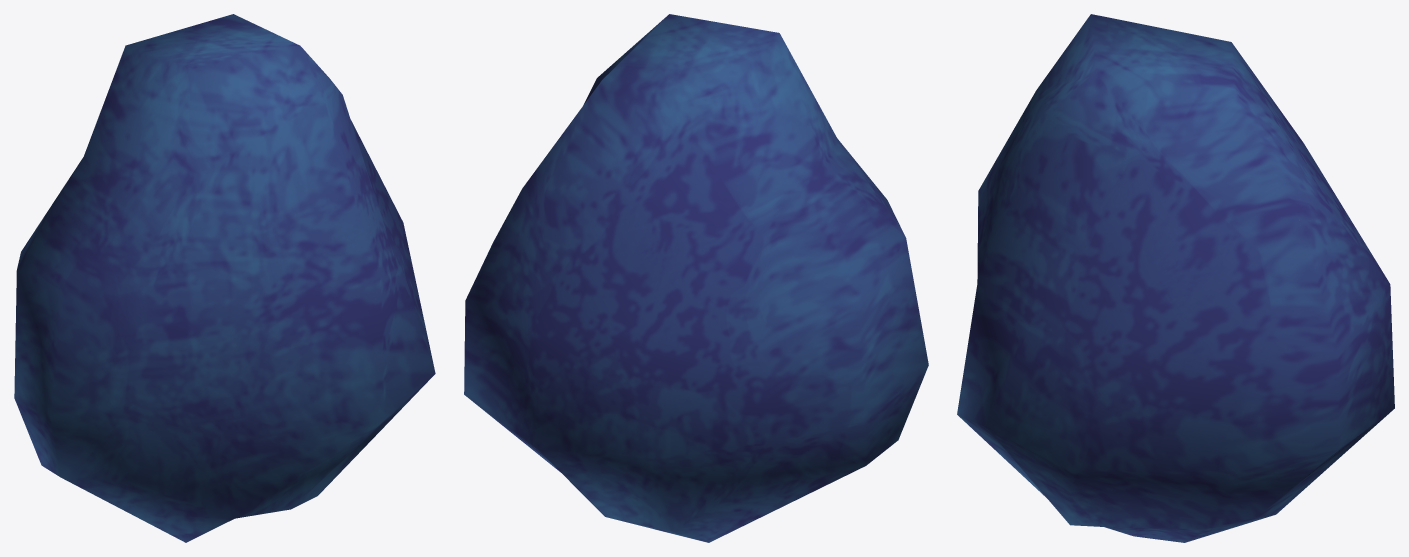
The model's file is roca9.FBX.
The picture shows the model from 3 angles, left to right: view 1: azimuth 30°, elevation 25°; view 2: azimuth 150°, elevation 25°; view 3: azimuth 270°, elevation 25°; orthographic projection. The views are drawn at different scales.
Visible parts, largest first — view 1: Roca9; view 2: Roca9; view 3: Roca9.
Part boxes in pixels (bbox=[...]): Roca9: bbox=[14, 14, 435, 542]; Roca9: bbox=[464, 14, 928, 542]; Roca9: bbox=[957, 14, 1394, 542].
Bounding box in the file's own units: 94.4 × 94.69 × 119.
